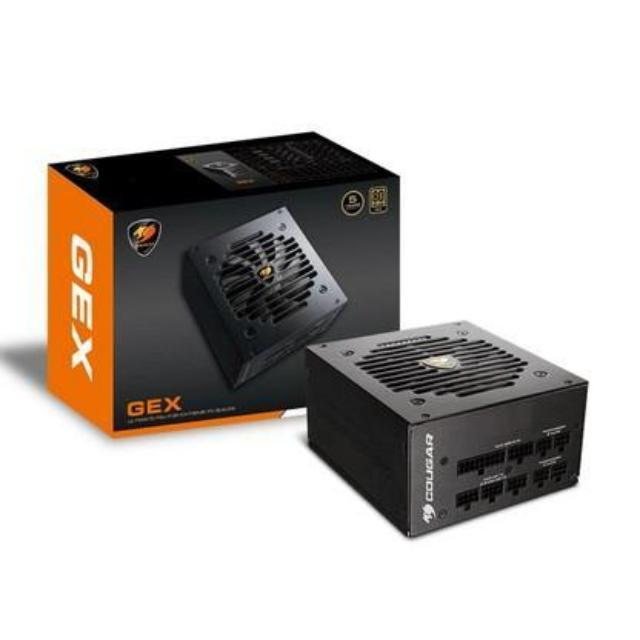PSU: (293, 306, 595, 542), (168, 203, 348, 397)
